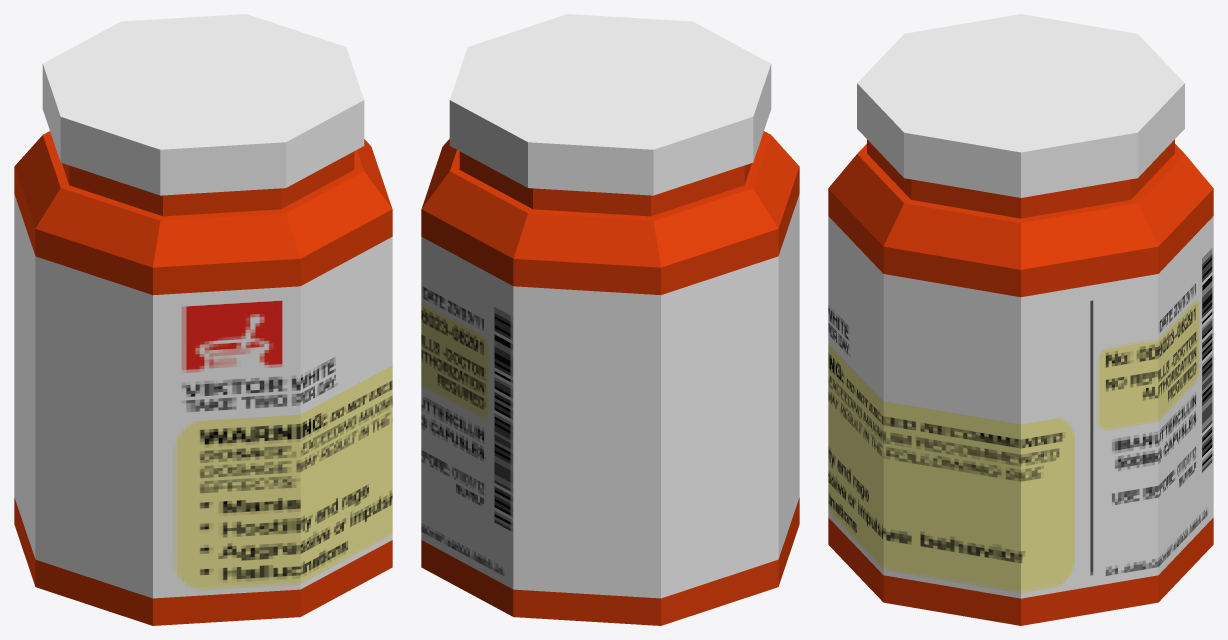
Rendered from medBottle_01.fbx.
The picture shows the model from 3 angles, left to right: view 1: azimuth 30°, elevation 25°; view 2: azimuth 150°, elevation 25°; view 3: azimuth 270°, elevation 25°; orthographic projection.
Visible parts, largest first — view 1: Plane.002; view 2: Plane.002; view 3: Plane.002.
Part boxes in pixels (x1,y1,x2,y2): Plane.002: (14, 14, 392, 625); Plane.002: (421, 14, 799, 625); Plane.002: (828, 14, 1213, 625).
Size of the model in its own units: 15.93 by 21.03 by 15.93.
